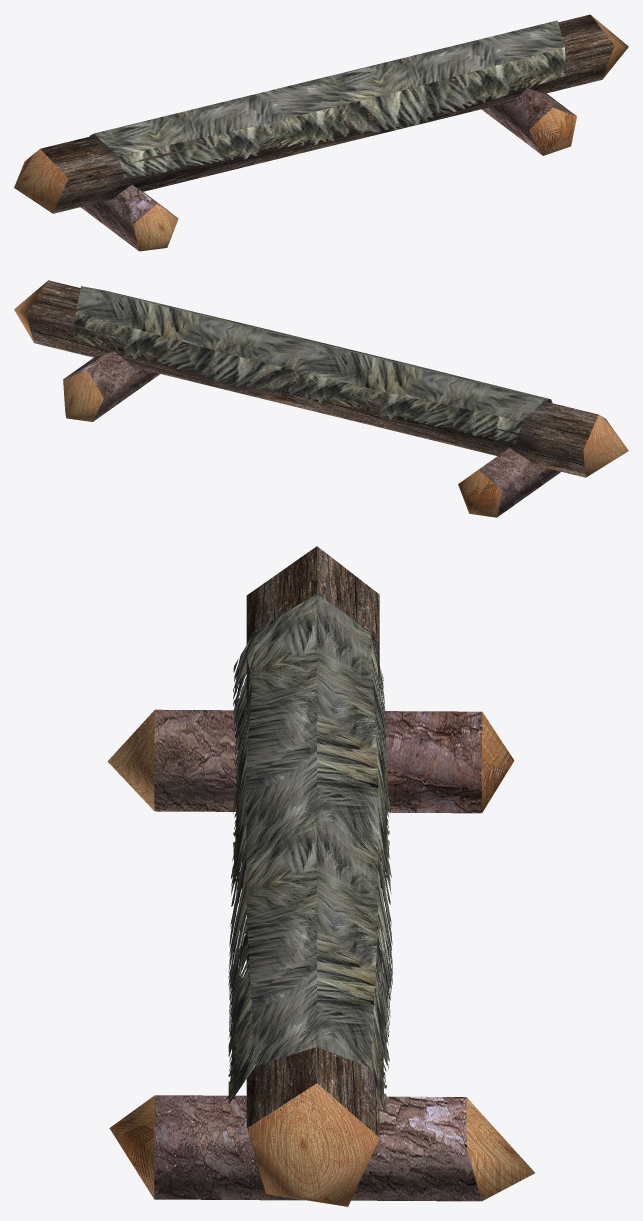
The model's file is log_bench2.FBX.
3 views of the same model, one above another, from view 1: azimuth 30°, elevation 25°; view 2: azimuth 150°, elevation 25°; view 3: azimuth 270°, elevation 25° (orthographic). The views are drawn at different scales.
Parts seen in each view (by area): view 1: Log_bench2; view 2: Log_bench2; view 3: Log_bench2.
Boxes of the visible parts, bbox=[...] form: Log_bench2: bbox=[14, 14, 628, 251]; Log_bench2: bbox=[14, 280, 628, 517]; Log_bench2: bbox=[107, 546, 534, 1206].
Size of the model in its own units: 26.72 by 3.85 by 8.06.
Materials: 5 (5 with a texture image).
